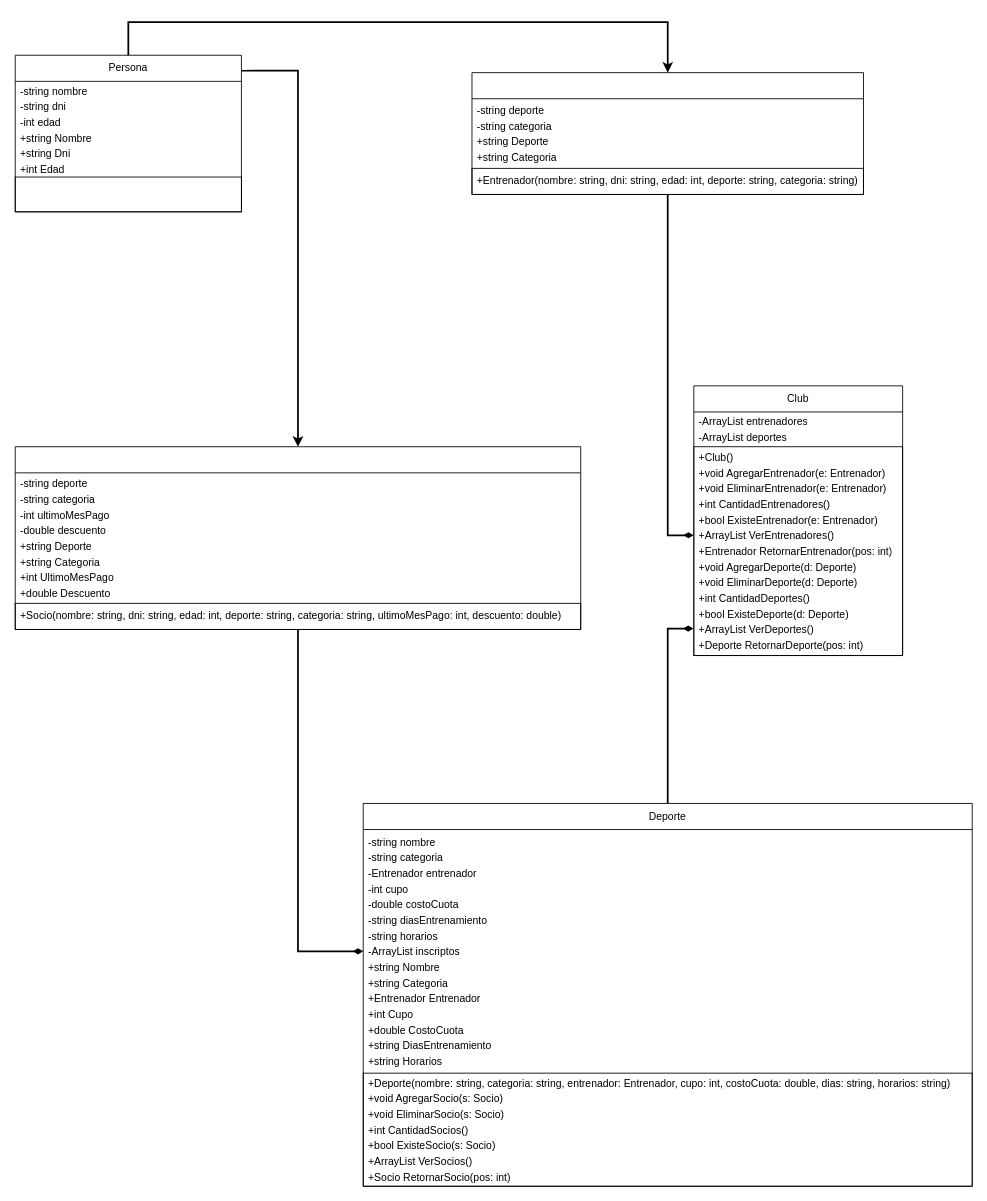
Some shapes in this 987 by 1201 pixel diagram are drawn without their labels. Here are the shapes that lost their labels. From the top down, the box of each, then its label:
(471, 72, 863, 194): Entrenador : Persona
(14, 176, 241, 212): +Persona(nombre: string, dni: string, edad: int)
(14, 446, 581, 629): Socio : Persona
